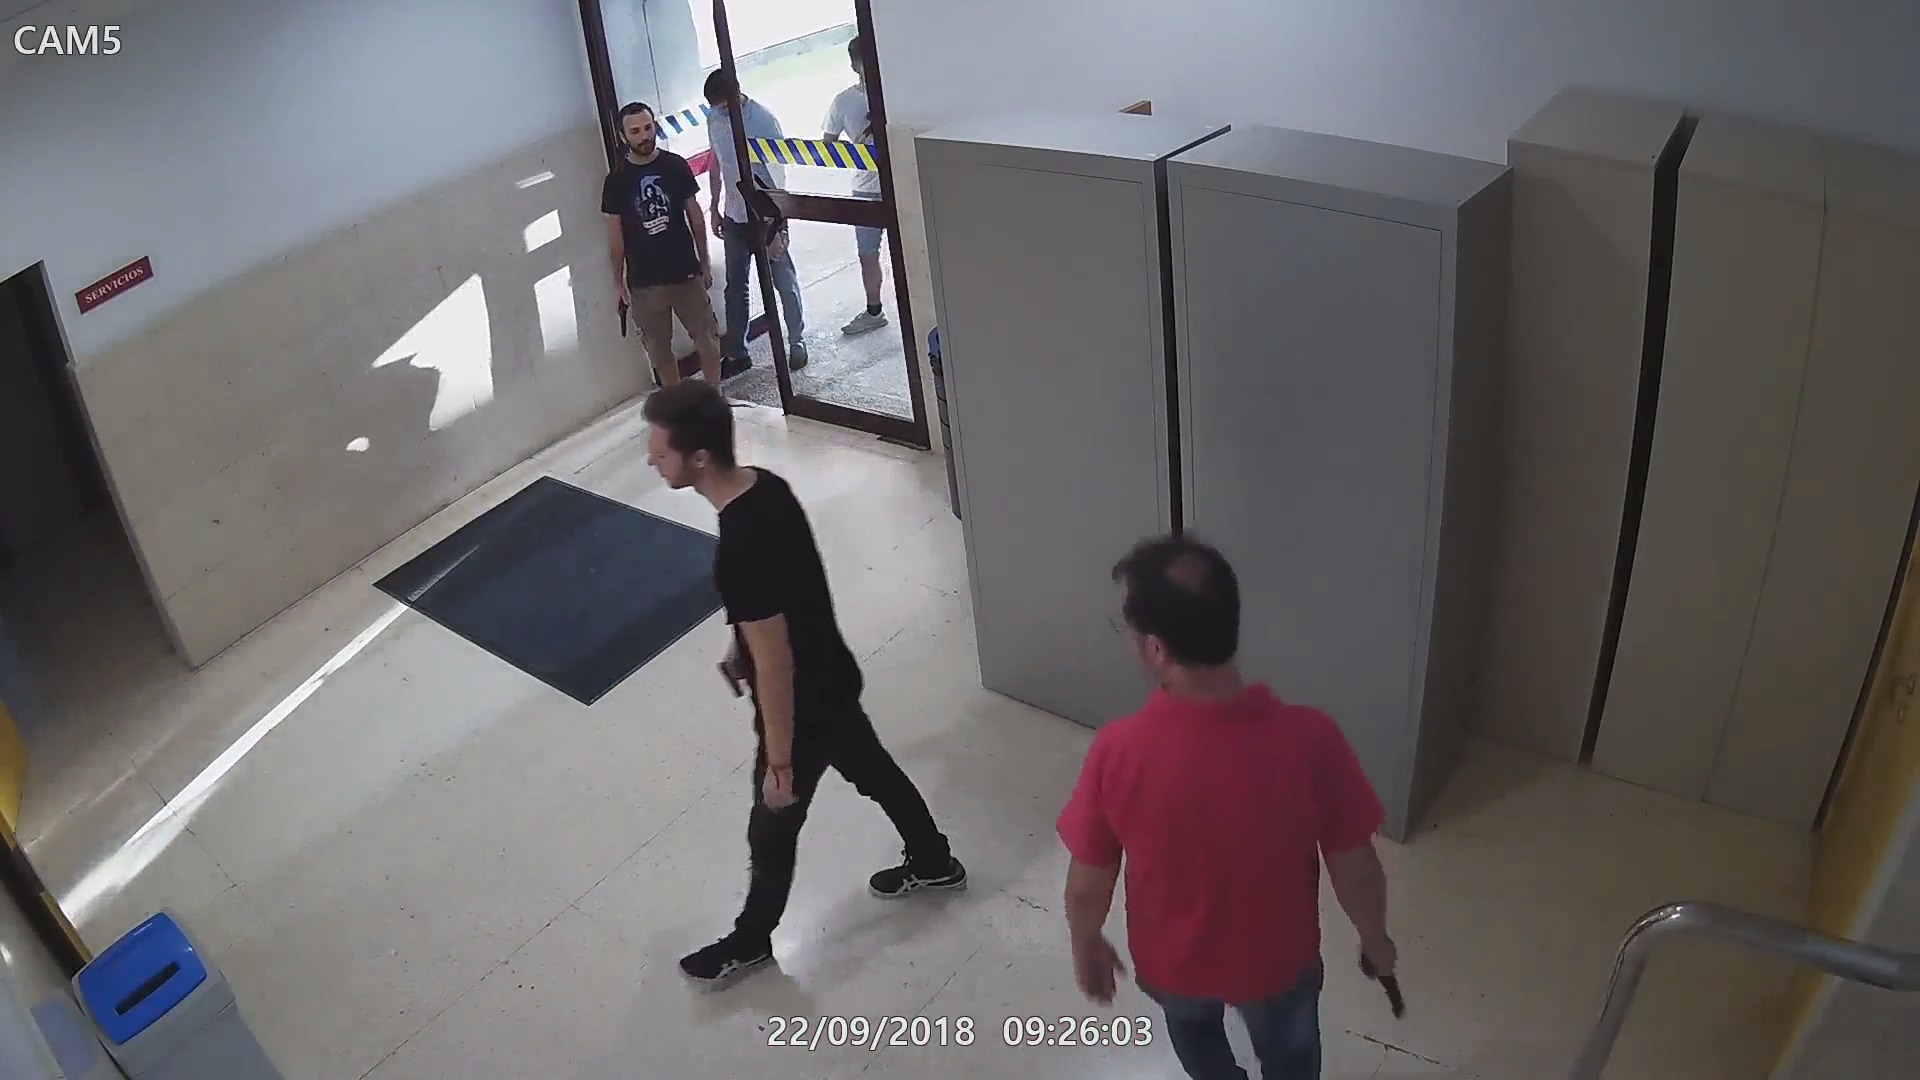Handgun: (1360, 934, 1416, 1029), (717, 632, 753, 705), (609, 284, 636, 342)
